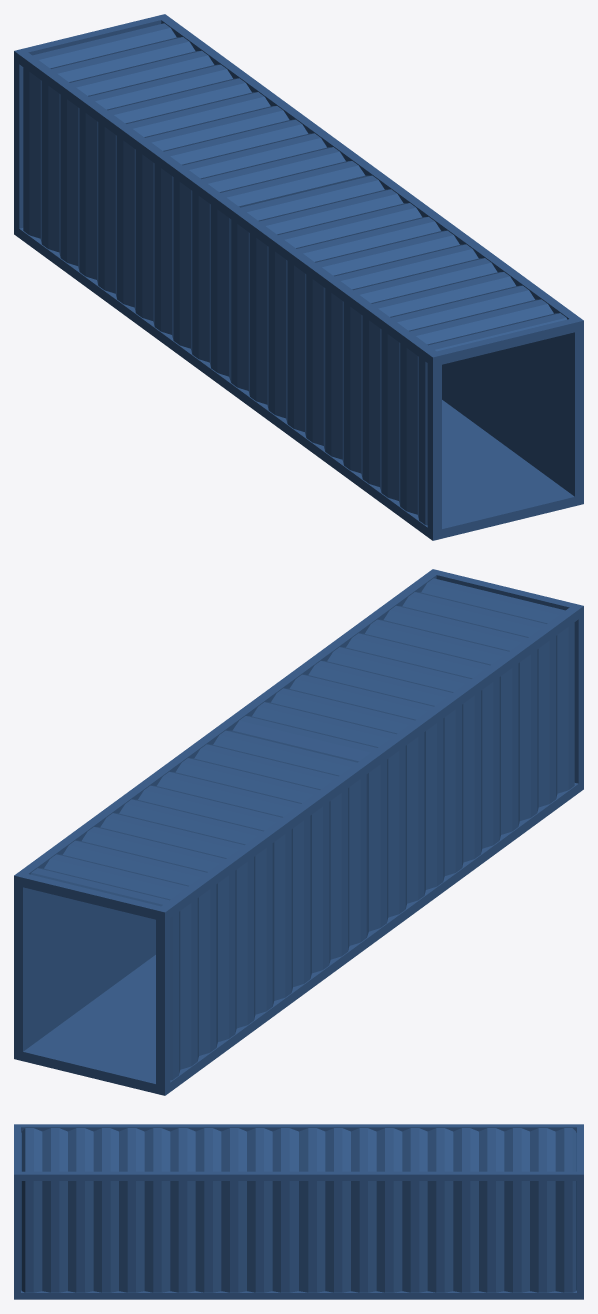
Rendered from SM_IndustrialProps_ShippingContainer_03.fbx.
3 renders of one model, top to bottom at view 1: azimuth 30°, elevation 25°; view 2: azimuth 150°, elevation 25°; view 3: azimuth 270°, elevation 25°, orthographic. The views are drawn at different scales.
Parts seen in each view (by area): view 1: SM_IndustrialProps_ShippingContainer_03; view 2: SM_IndustrialProps_ShippingContainer_03; view 3: SM_IndustrialProps_ShippingContainer_03.
Part boxes in pixels (x1,y1,x2,y2): SM_IndustrialProps_ShippingContainer_03: (14, 14, 583, 540); SM_IndustrialProps_ShippingContainer_03: (14, 569, 583, 1095); SM_IndustrialProps_ShippingContainer_03: (14, 1124, 583, 1299).
Size of the model in its own units: 2.5 by 2.9 by 12.
